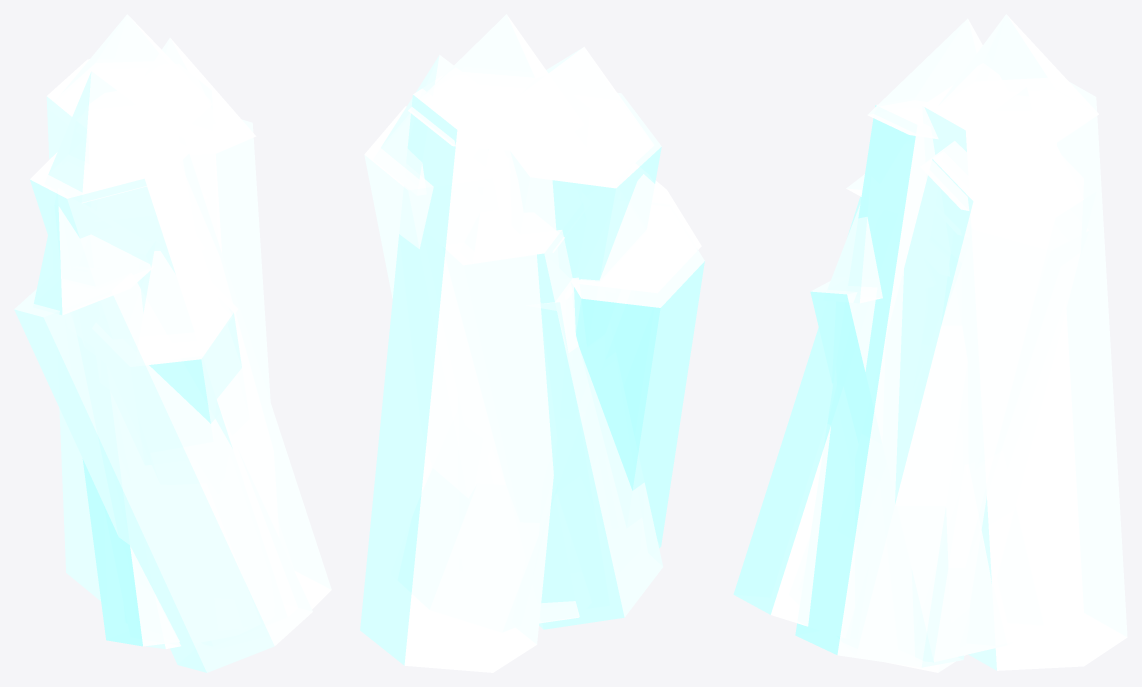
File: ice_crystals.glb
3 renders of one model, left to right at view 1: azimuth 30°, elevation 25°; view 2: azimuth 150°, elevation 25°; view 3: azimuth 270°, elevation 25°, orthographic. The views are drawn at different scales.
Parts seen in each view (by area): view 1: Prism6, Prism4, Tip4, Prism3, Prism5, Tip3, Prism0, Tip6, Prism2, Tip2, Tip5; view 2: Prism3, Prism0, Prism6, Prism4, Prism2, Tip3, Prism5, Tip4, Tip6, Tip5, Prism1; view 3: Prism4, Prism3, Prism5, Prism2, Prism6, Tip5, Tip3, Tip4, Tip2, Prism0.
Boxes of the visible parts, box(x1,y1,x2,y2) form: Prism6: box(14, 273, 312, 672); Prism4: box(30, 137, 331, 609); Tip4: box(48, 71, 198, 203); Prism3: box(46, 59, 217, 600); Prism5: box(190, 115, 270, 401); Tip3: box(49, 14, 213, 130); Prism0: box(82, 459, 179, 646); Tip6: box(34, 205, 152, 315); Prism2: box(149, 297, 241, 423); Tip2: box(141, 251, 237, 350); Tip5: box(145, 38, 256, 155); Prism3: box(360, 72, 589, 672); Prism0: box(443, 229, 663, 629); Prism6: box(571, 203, 704, 548); Prism4: box(511, 86, 661, 280); Prism2: box(398, 469, 538, 631); Tip3: box(408, 14, 571, 153); Prism5: box(364, 106, 579, 623); Tip4: box(523, 46, 648, 175); Tip6: box(580, 174, 701, 289); Tip5: box(374, 54, 503, 194); Prism1: box(540, 277, 578, 353); Prism4: box(795, 101, 967, 667); Prism3: box(923, 78, 1127, 670); Prism5: box(887, 152, 1096, 672); Prism2: box(810, 279, 1043, 662); Prism6: box(733, 196, 861, 626); Tip5: box(920, 87, 1083, 224); Tip3: box(935, 14, 1098, 147); Tip4: box(867, 18, 1002, 140); Tip2: box(827, 204, 882, 303); Prism0: box(941, 229, 1088, 324).
Size of the model in its own units: 0.8492 by 1.83 by 1.05.
